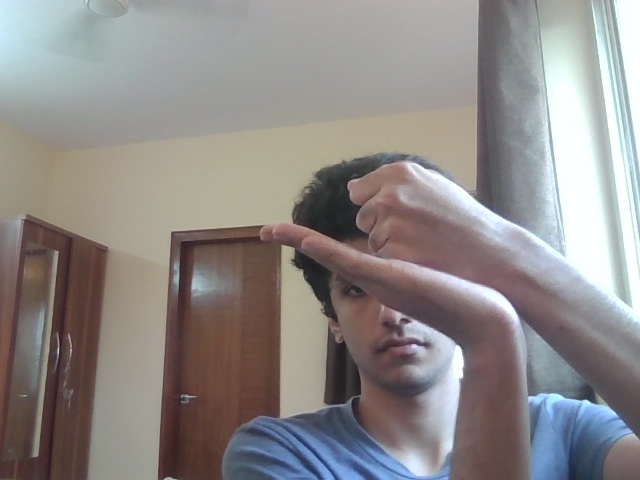Help: (257, 157, 587, 345)
